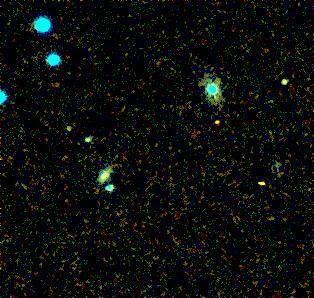star: (202, 110, 232, 140)
